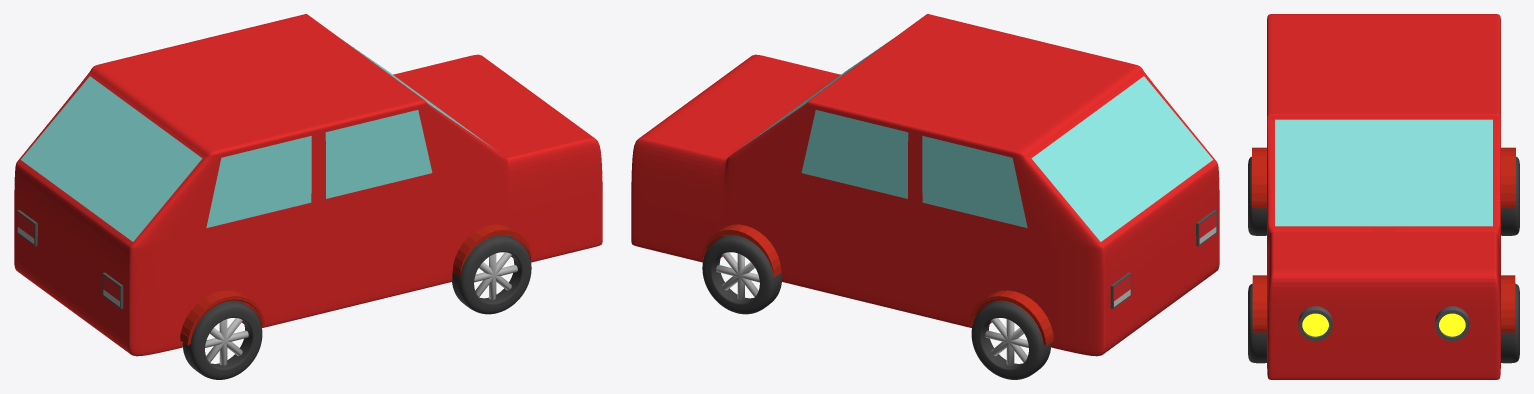
The model's file is Car.fbx.
3 renders of one model, left to right at view 1: azimuth 30°, elevation 25°; view 2: azimuth 150°, elevation 25°; view 3: azimuth 270°, elevation 25°, orthographic. The views are drawn at different scales.
Parts seen in each view (by area): view 1: Cube.001, Cylinder.002, Cylinder.001, Cube.002; view 2: Cube.001, Cylinder.002, Cylinder.001, Cube.002; view 3: Cube.001, Cylinder, Cylinder.002, Cylinder.001.
Boxes of the visible parts, left/top/right/bottom form: Cube.001: left=14, top=14, right=602, bottom=356; Cylinder.002: left=452, top=234, right=531, bottom=314; Cylinder.001: left=182, top=300, right=262, bottom=379; Cube.002: left=17, top=210, right=123, bottom=308; Cube.001: left=631, top=14, right=1219, bottom=356; Cylinder.002: left=702, top=234, right=781, bottom=314; Cylinder.001: left=971, top=300, right=1051, bottom=379; Cube.002: left=1110, top=210, right=1216, bottom=308; Cube.001: left=1252, top=14, right=1515, bottom=379; Cylinder: left=1298, top=306, right=1469, bottom=341; Cylinder.002: left=1248, top=283, right=1519, bottom=363; Cylinder.001: left=1248, top=156, right=1519, bottom=235.
Size of the model in its own units: 1340 by 590 by 673.
